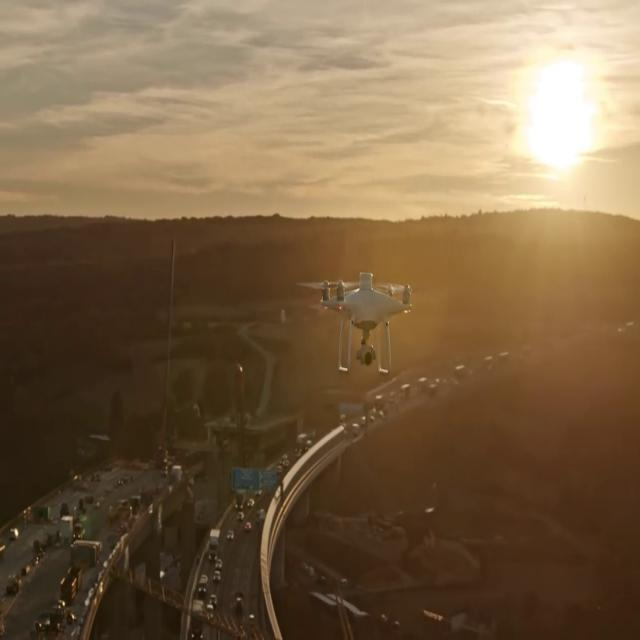drone: (293, 268, 419, 376)
